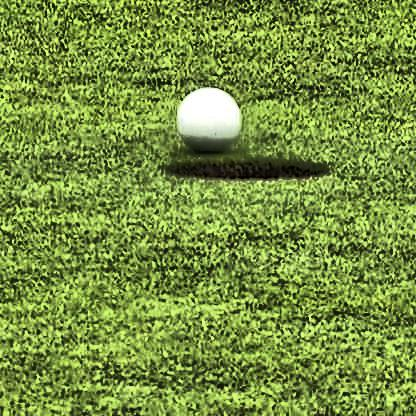golfball: (174, 85, 239, 150)
